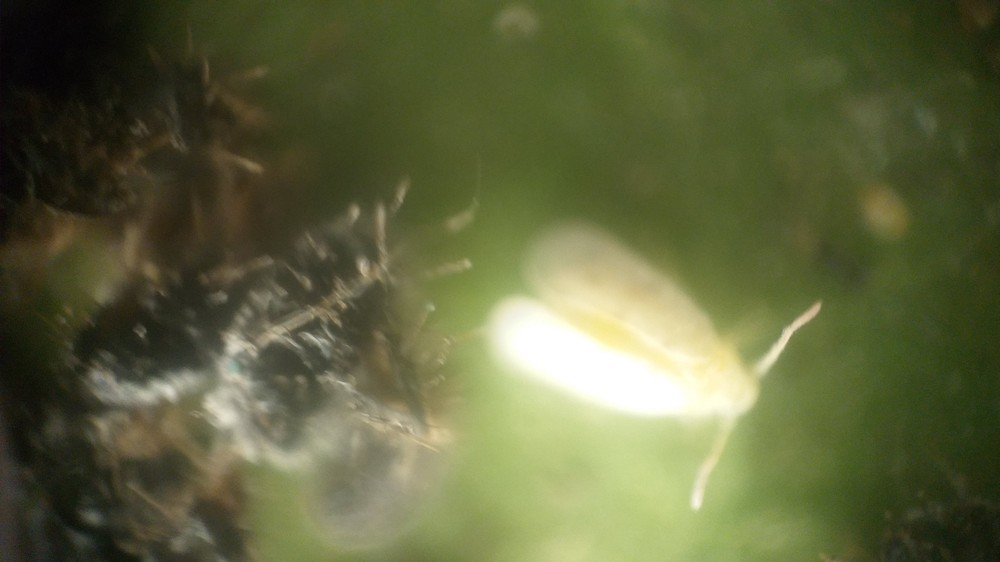Mosca Blanca: (481, 219, 833, 521)
